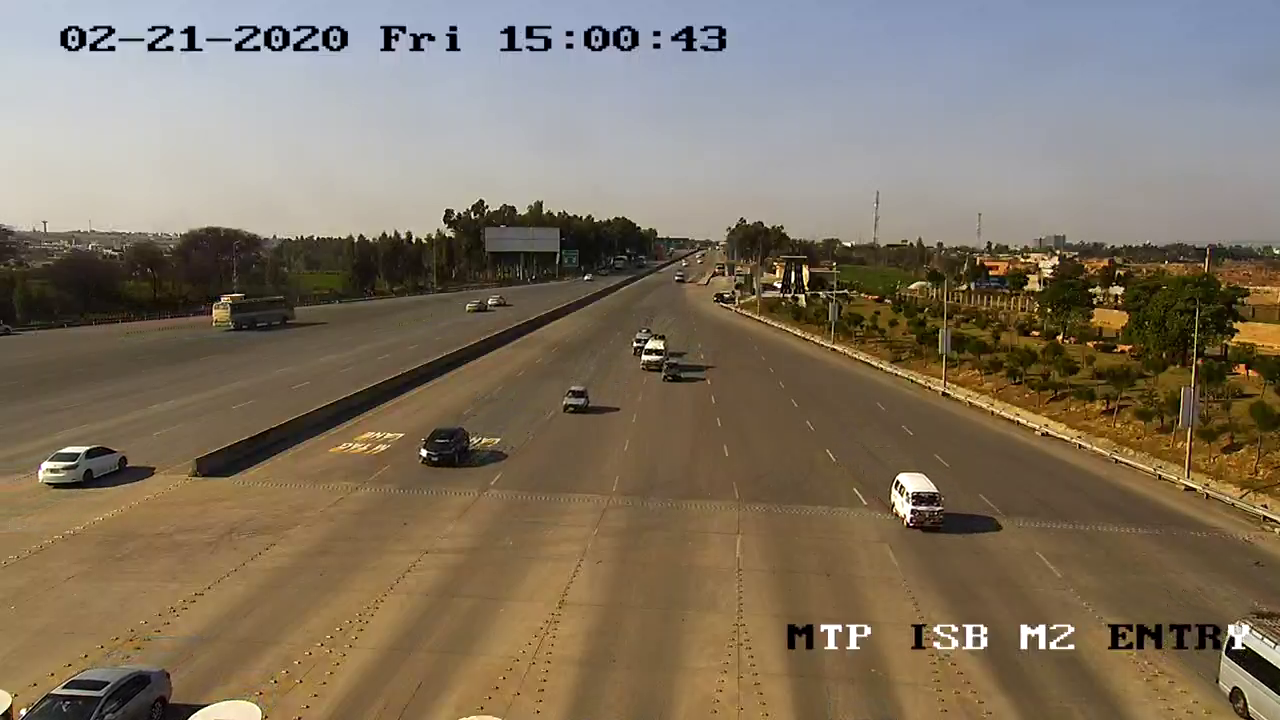f1: (876, 465, 955, 537), (412, 421, 476, 472), (554, 379, 594, 425)
